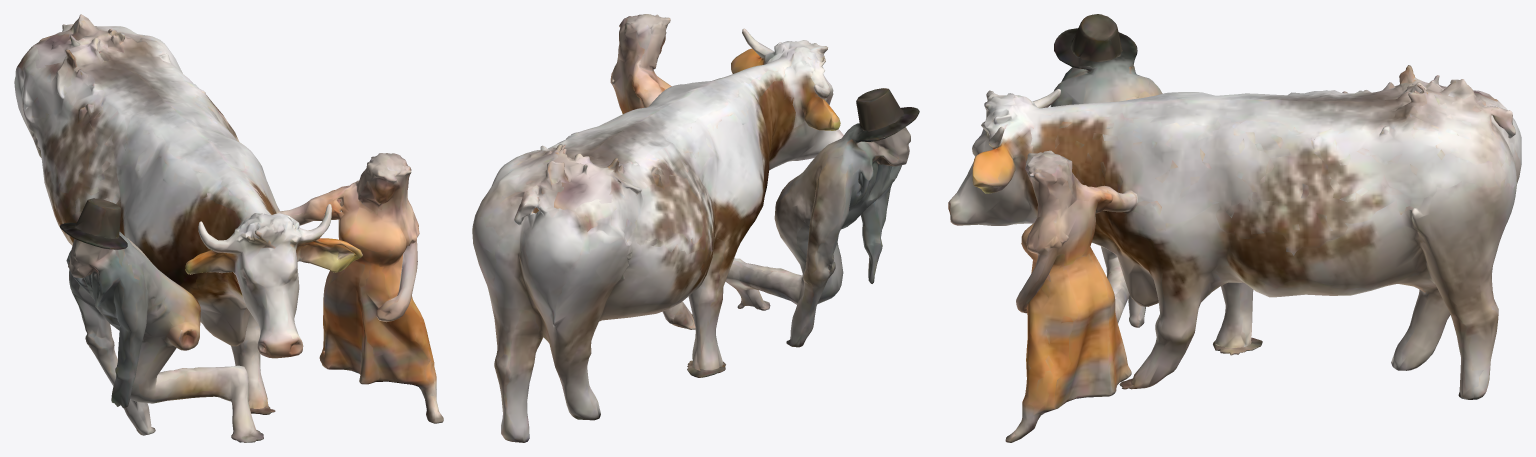
The model's file is Slepice.glb.
The picture shows the model from 3 angles, left to right: view 1: azimuth 30°, elevation 25°; view 2: azimuth 150°, elevation 25°; view 3: azimuth 270°, elevation 25°; orthographic projection. The views are drawn at different scales.
Parts seen in each view (by area): view 1: geometry_0; view 2: geometry_0; view 3: geometry_0.
Boxes of the visible parts, <box> form: geometry_0: <box>14,14,443,442</box>; geometry_0: <box>472,14,919,442</box>; geometry_0: <box>948,14,1521,442</box>.
Size of the model in its own units: 0.5777 by 0.4731 by 0.8159.
1 material, 1 textured.
